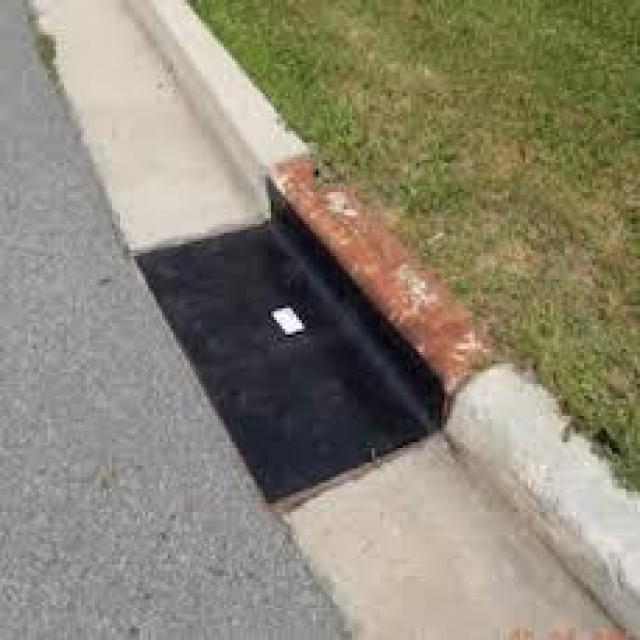curb: (25, 1, 640, 640)
